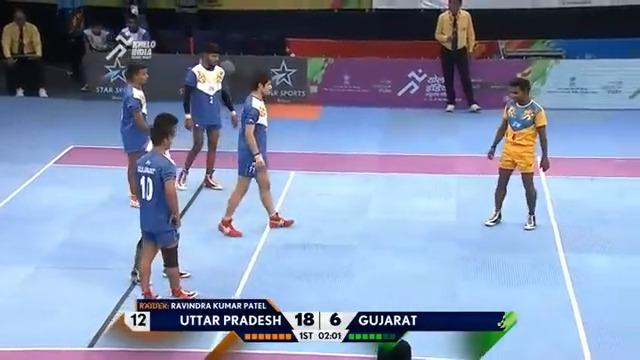Player: (217, 73, 294, 237), (131, 111, 198, 299), (175, 41, 238, 190), (117, 60, 153, 208), (0, 8, 48, 97)
Raider: (483, 76, 550, 230)
referee: (433, 0, 482, 112)
